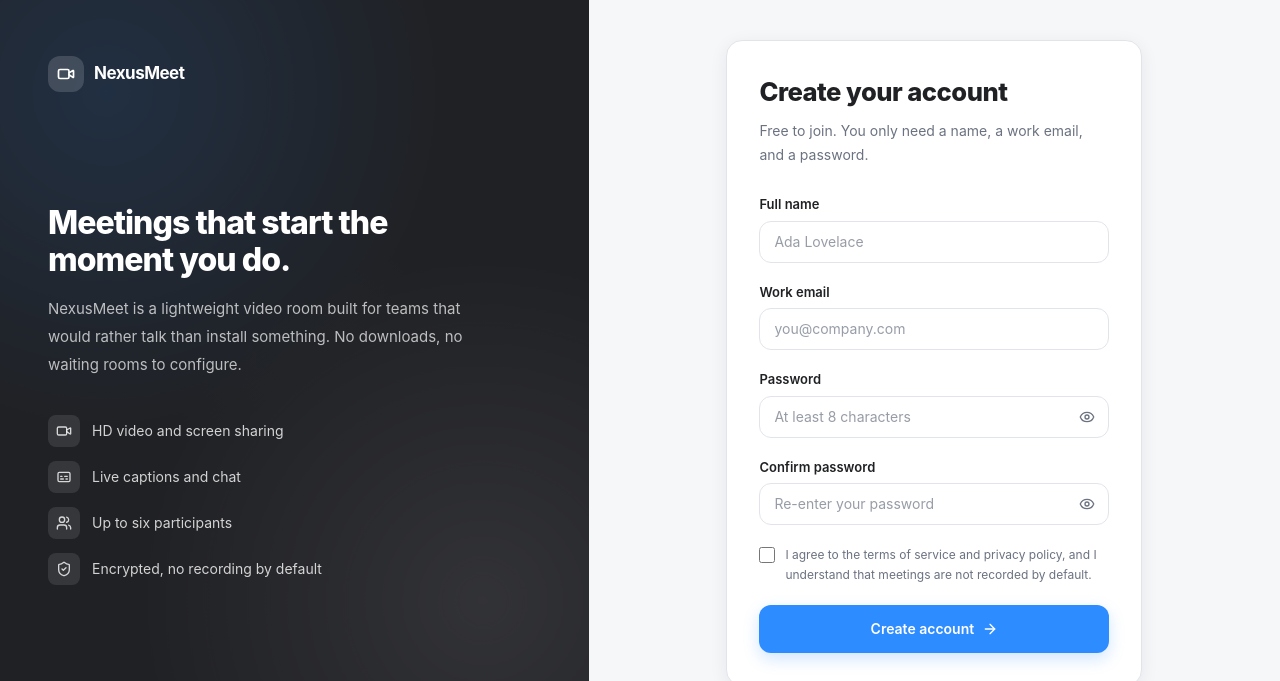
Test case: SignUpForm › ticks off each password requirement as it is met
In the password field labelled "Password": (934, 417) [759,396,1109,438], type "abcdefghij1"
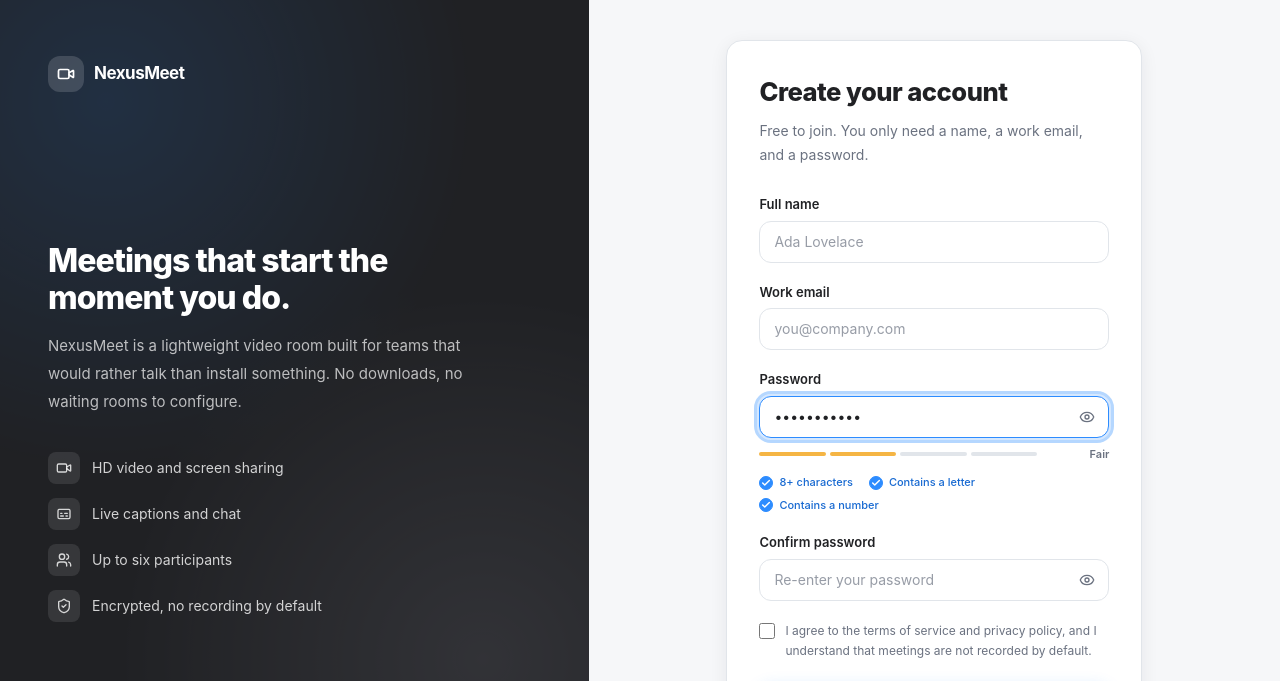
Check: the list item "Contains a letter" is shown, box [869,474,975,491]
Check: the list item "Contains a number" is shown, box [759,497,879,513]
